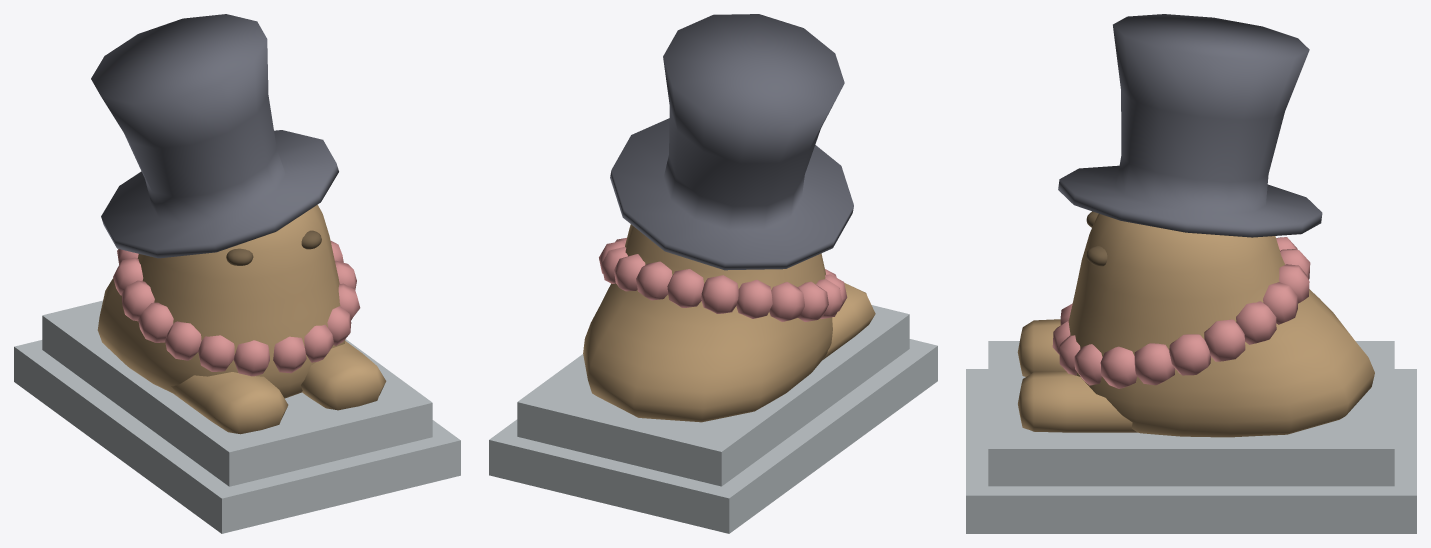
The model's file is Sphinx1.fbx.
The picture shows the model from 3 angles, left to right: view 1: azimuth 30°, elevation 25°; view 2: azimuth 150°, elevation 25°; view 3: azimuth 270°, elevation 25°; orthographic projection. The views are drawn at different scales.
Parts seen in each view (by area): view 1: Cube.138; view 2: Cube.138; view 3: Cube.138.
Part boxes in pixels (x1,y1,x2,y2): Cube.138: (14, 14, 460, 533); Cube.138: (489, 14, 937, 533); Cube.138: (966, 14, 1416, 533).
Bounding box in the file's own units: 745 × 1149 × 1090.
